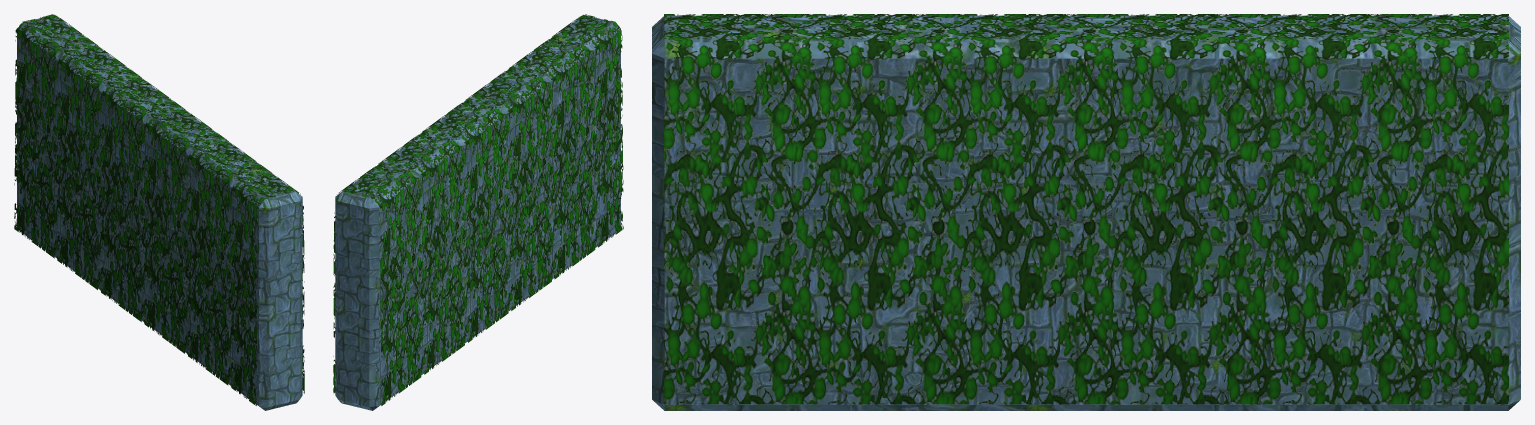
File: parede escalavel.FBX
3 views of the same model, side by side, from view 1: azimuth 30°, elevation 25°; view 2: azimuth 150°, elevation 25°; view 3: azimuth 270°, elevation 25° (orthographic). The views are drawn at different scales.
Visible parts, largest first — view 1: Plane001, parede; view 2: Plane001, parede; view 3: Plane001, parede.
Part boxes in pixels (x1=…): Plane001: x1=14, y1=14, x2=304, y2=405; parede: x1=17, y1=17, x2=302, y2=410; Plane001: x1=333, y1=14, x2=623, y2=405; parede: x1=335, y1=14, x2=620, y2=410; Plane001: x1=664, y1=14, x2=1508, y2=404; parede: x1=652, y1=15, x2=1520, y2=410.
Bounding box in the file's own units: 171 × 726 × 1543.
